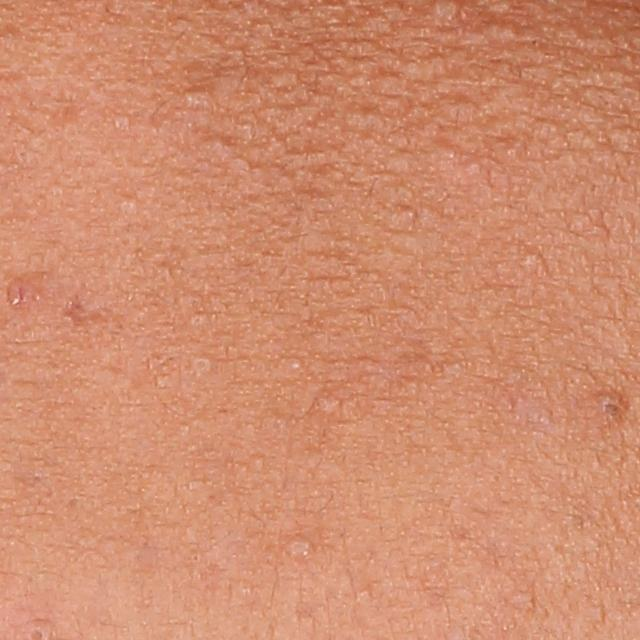atrophic_scar: (59, 296, 116, 333)
comedo: (175, 81, 211, 109), (596, 394, 624, 419), (285, 538, 316, 558), (190, 353, 215, 373), (521, 248, 545, 266), (287, 354, 307, 371)
